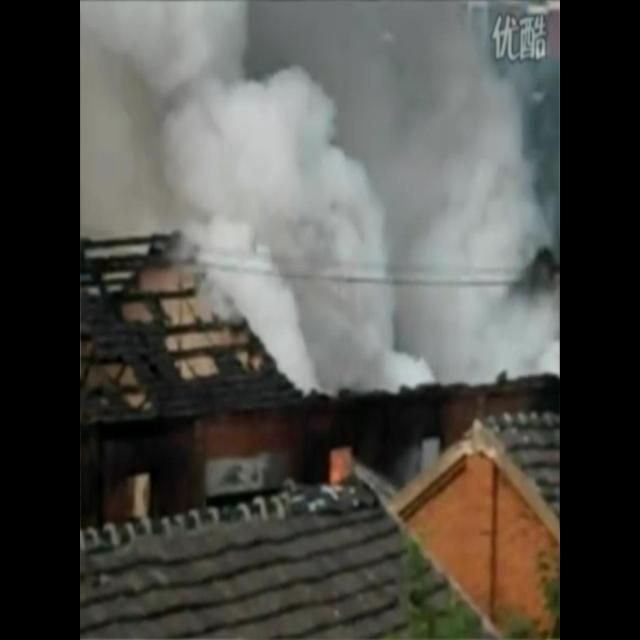Smoke: (80, 1, 560, 394)
